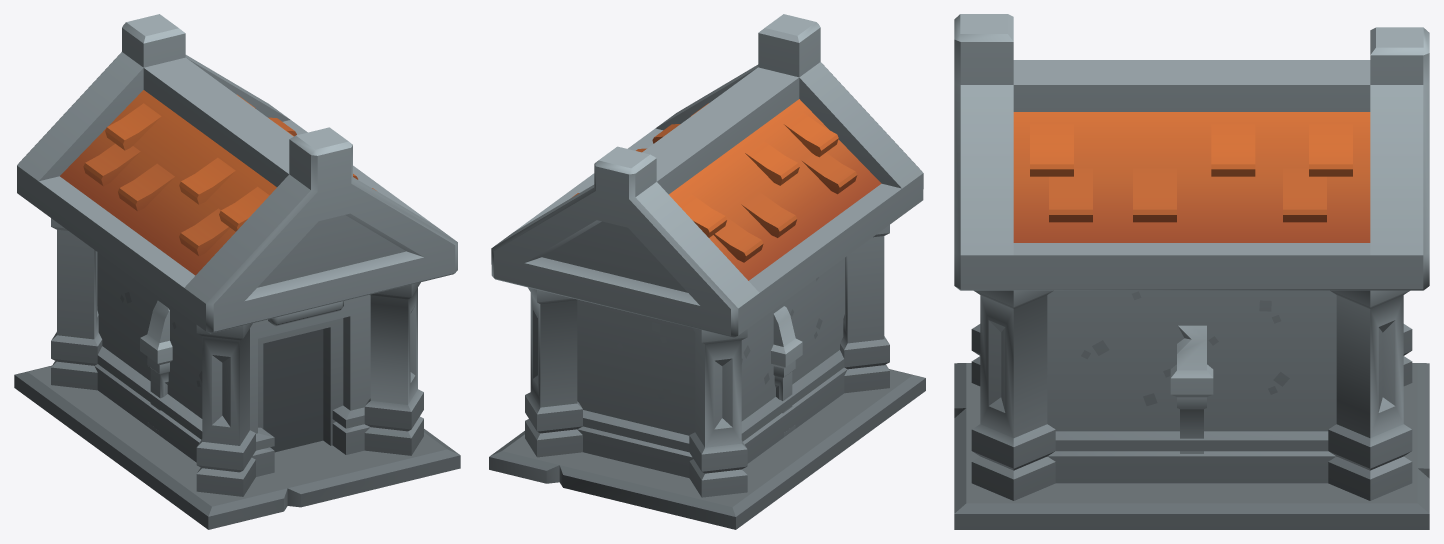
Rendered from halloween.glb.
3 renders of one model, left to right at view 1: azimuth 30°, elevation 25°; view 2: azimuth 150°, elevation 25°; view 3: azimuth 270°, elevation 25°, orthographic. The views are drawn at different scales.
Visible parts, largest first — view 1: crypt, Cube.632; view 2: crypt, Cube.632; view 3: crypt, Cube.632.
Boxes of the visible parts, x1,y1,x2,y2 form: crypt: [14, 14, 460, 529]; Cube.632: [140, 300, 172, 435]; crypt: [489, 14, 925, 529]; Cube.632: [771, 306, 802, 436]; crypt: [954, 14, 1429, 529]; Cube.632: [1170, 325, 1213, 453].
Size of the model in its own units: 6 by 8.48 by 8.
Materials: 1 (1 with a texture image).
